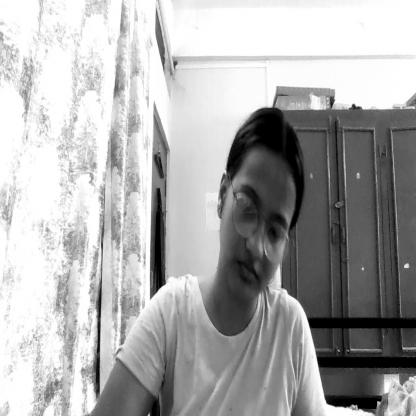Distracted: (220, 107, 310, 295)
